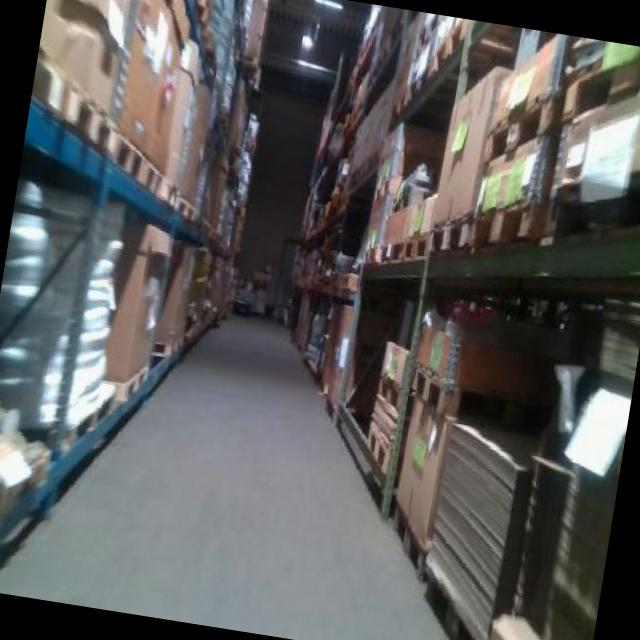pallet: (18, 53, 201, 208), (443, 184, 546, 274), (368, 481, 438, 578), (356, 374, 407, 459), (384, 222, 434, 274), (406, 360, 454, 412)
